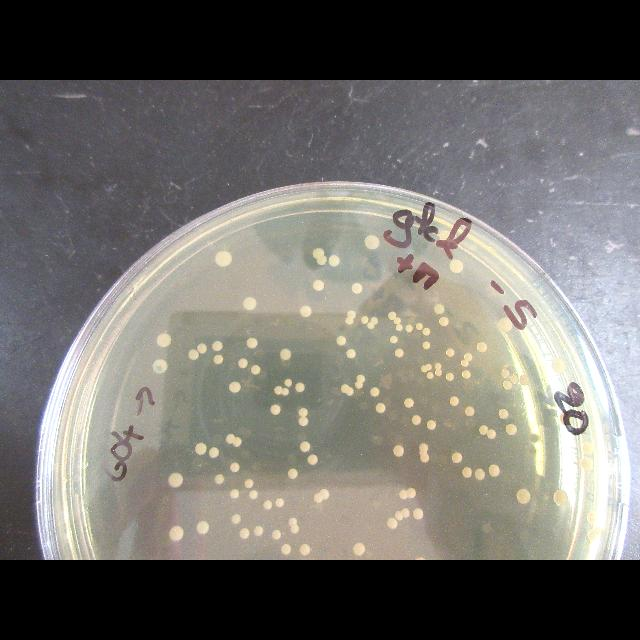colony: (215, 251, 232, 268), (552, 490, 568, 506), (169, 472, 184, 488), (152, 359, 168, 374), (156, 332, 171, 348), (169, 526, 184, 541), (365, 235, 380, 250), (449, 259, 464, 274), (551, 358, 565, 374), (516, 489, 530, 504), (242, 296, 256, 310), (498, 318, 512, 332), (196, 521, 209, 535), (352, 542, 365, 556), (581, 441, 594, 455), (461, 352, 472, 368), (195, 442, 208, 455), (586, 511, 598, 525), (580, 458, 594, 470), (489, 464, 500, 478), (300, 305, 311, 318), (312, 248, 325, 259), (229, 381, 241, 392), (300, 544, 311, 556), (246, 338, 258, 349), (280, 349, 291, 361), (312, 280, 324, 291), (351, 282, 362, 294), (506, 424, 518, 435), (451, 452, 462, 464), (412, 509, 424, 520), (394, 445, 404, 458), (239, 528, 250, 539), (270, 404, 281, 415), (329, 255, 340, 266), (434, 304, 445, 315), (232, 436, 242, 448), (375, 402, 385, 414), (476, 342, 488, 352), (189, 349, 199, 360), (211, 341, 222, 351), (209, 448, 219, 459), (215, 474, 225, 485), (281, 544, 291, 555), (308, 454, 318, 465), (300, 441, 310, 452), (320, 489, 330, 500), (461, 468, 472, 478), (475, 469, 485, 480), (388, 518, 398, 529), (406, 488, 416, 499), (420, 451, 430, 462), (419, 444, 429, 455), (316, 256, 328, 265), (198, 344, 208, 354), (214, 355, 224, 365), (230, 462, 240, 472), (231, 514, 241, 524), (254, 526, 264, 536), (225, 434, 235, 444), (288, 469, 298, 479), (314, 492, 324, 502), (238, 359, 248, 369), (251, 365, 261, 375), (295, 382, 305, 392), (299, 416, 309, 426), (336, 336, 346, 346), (346, 349, 356, 359), (340, 384, 350, 394), (404, 398, 414, 408), (411, 415, 421, 425), (426, 420, 436, 430), (439, 316, 449, 326), (519, 375, 529, 385), (502, 380, 512, 390), (465, 406, 475, 416), (499, 409, 509, 419), (486, 429, 496, 439), (479, 425, 489, 435), (230, 489, 239, 499), (245, 479, 254, 489), (249, 490, 258, 500), (275, 498, 284, 508), (272, 530, 281, 540), (299, 408, 308, 418), (461, 370, 471, 379), (501, 369, 510, 379), (450, 396, 459, 406), (395, 511, 404, 521), (401, 508, 410, 518), (399, 490, 408, 500), (290, 525, 299, 534), (345, 316, 354, 325), (355, 380, 364, 389), (370, 316, 379, 325), (395, 349, 404, 358), (264, 500, 272, 510), (274, 385, 282, 395), (370, 388, 380, 396), (421, 364, 431, 372), (510, 374, 518, 384), (289, 518, 298, 526), (284, 379, 292, 388), (348, 310, 356, 319), (388, 311, 396, 320), (422, 341, 430, 350), (446, 372, 454, 381), (281, 388, 289, 396), (346, 388, 354, 396), (361, 316, 369, 324), (390, 336, 398, 344), (422, 328, 430, 336), (426, 371, 434, 379), (356, 375, 365, 382), (446, 349, 455, 356), (415, 322, 422, 330), (434, 362, 441, 370), (368, 322, 375, 329), (394, 318, 401, 325), (405, 325, 412, 332), (396, 324, 402, 331), (435, 370, 442, 376)
